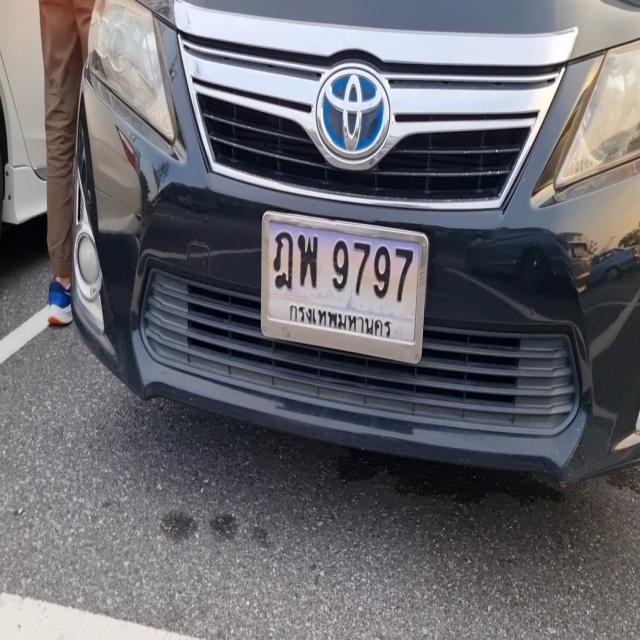license_plate: (259, 208, 427, 369)
